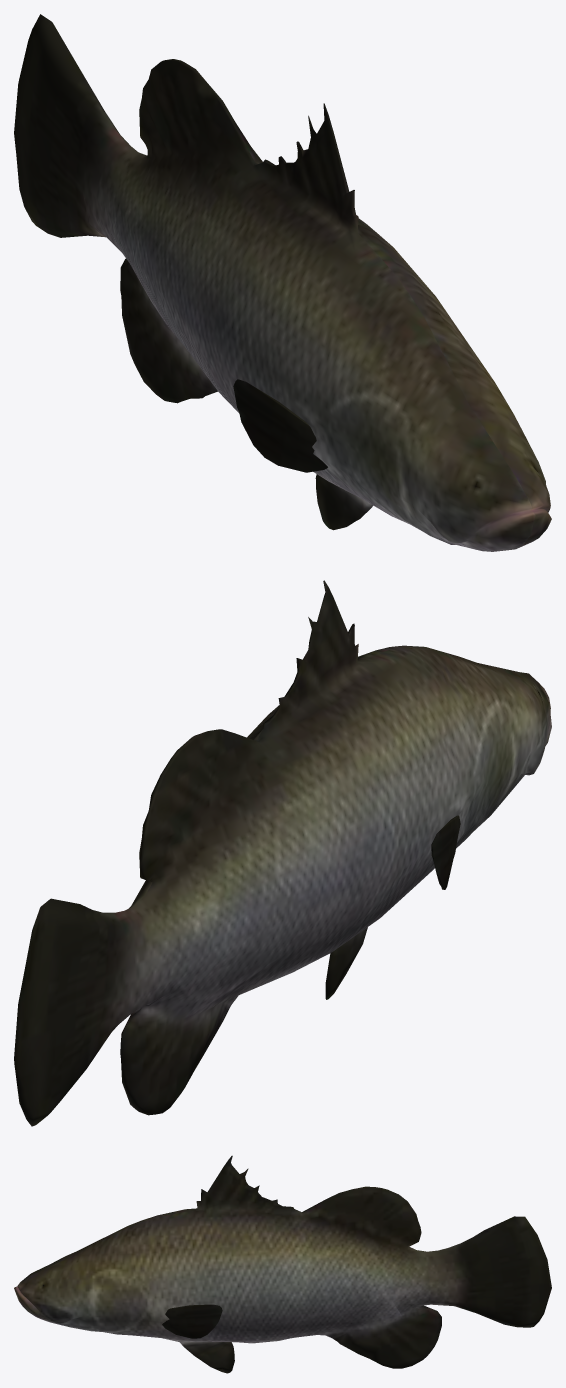
File: fish.lite.glb
The picture shows the model from 3 angles, top to bottom: view 1: azimuth 30°, elevation 25°; view 2: azimuth 150°, elevation 25°; view 3: azimuth 270°, elevation 25°; orthographic projection. The views are drawn at different scales.
Visible parts, largest first — view 1: BarramundiFish; view 2: BarramundiFish; view 3: BarramundiFish.
Part boxes in pixels (left/top/right/bottom): BarramundiFish: left=14, top=14, right=551, bottom=551; BarramundiFish: left=14, top=580, right=551, bottom=1126; BarramundiFish: left=14, top=1155, right=551, bottom=1373.
Bounding box in the file's own units: 0.1426 × 0.2875 × 0.6431.
1 material, 1 textured.
